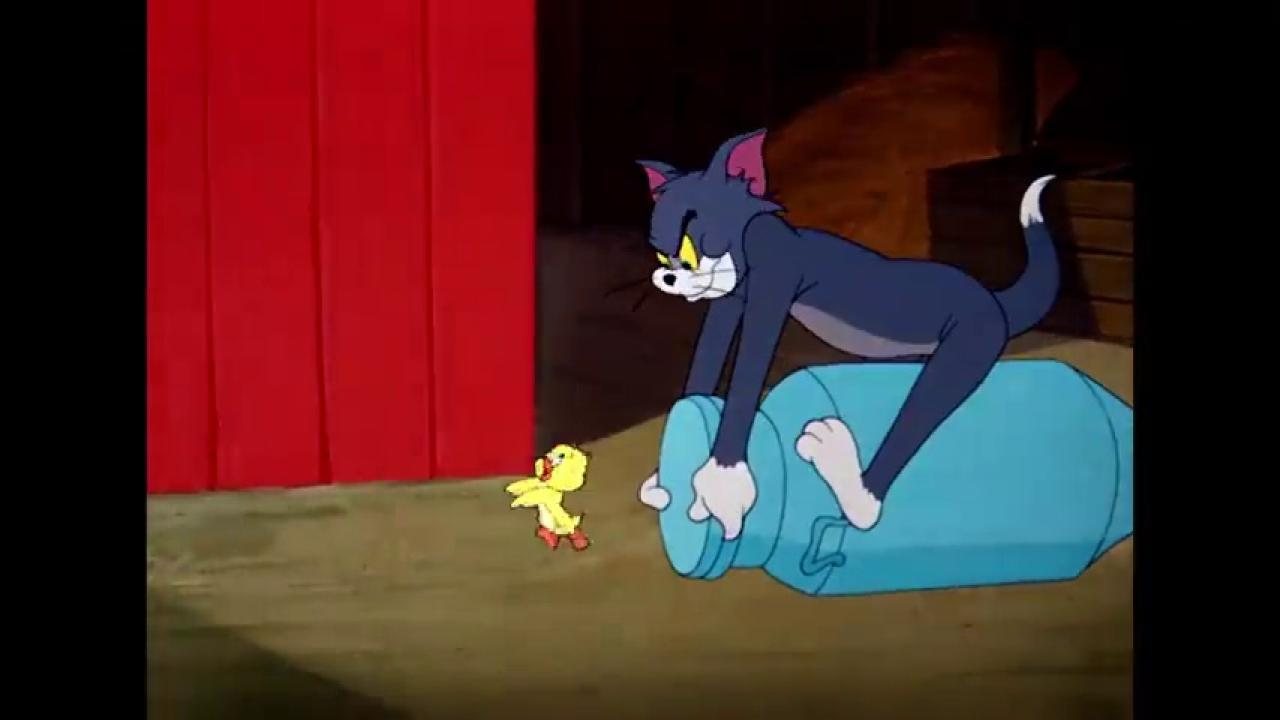Tom: (633, 126, 1065, 542)
